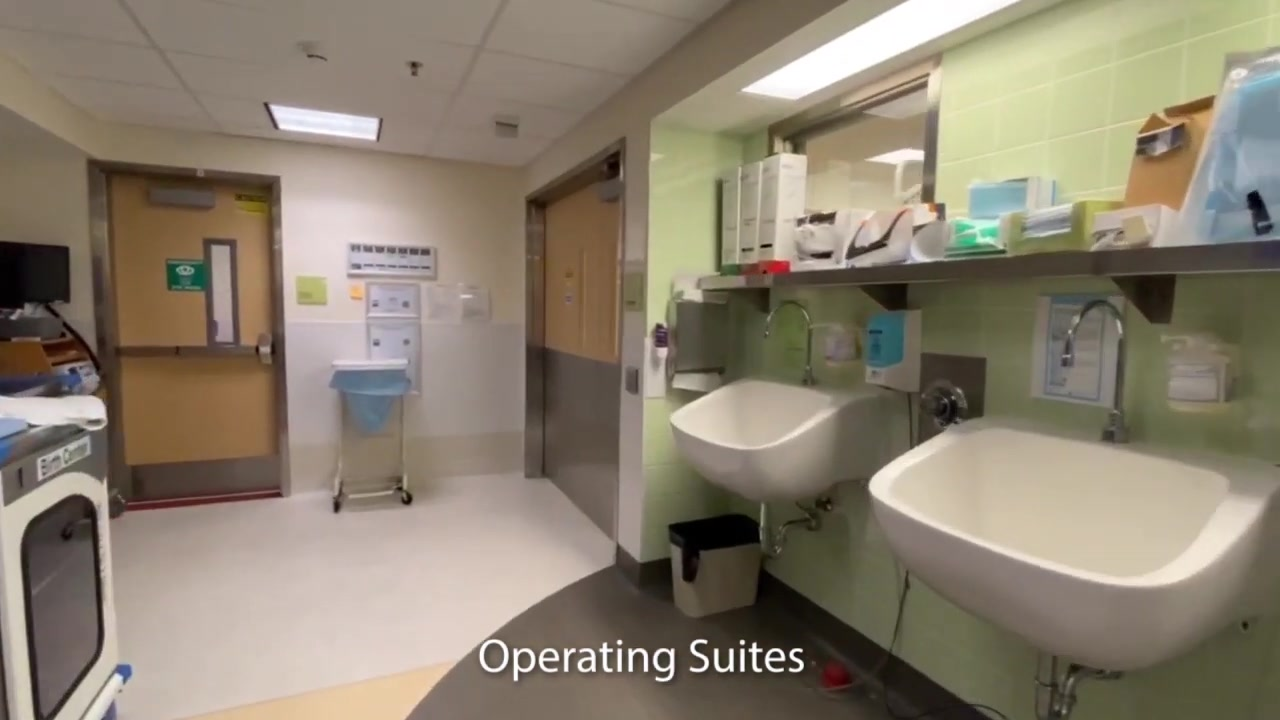computer: (1, 241, 70, 303)
dispenser: (1161, 326, 1231, 414), (864, 309, 921, 392), (805, 316, 861, 368)
faucet: (1060, 299, 1129, 444), (764, 300, 815, 386)
press_to_open: (624, 367, 639, 394)
push_latch: (117, 334, 274, 368)
sink: (869, 417, 1280, 671), (669, 375, 883, 501)
waste_bin: (330, 359, 413, 513), (668, 514, 761, 617)
